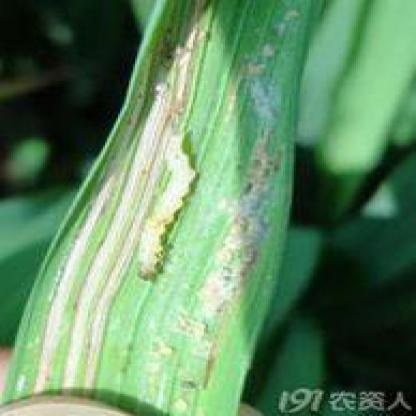leaf-folder: (108, 126, 238, 300)
